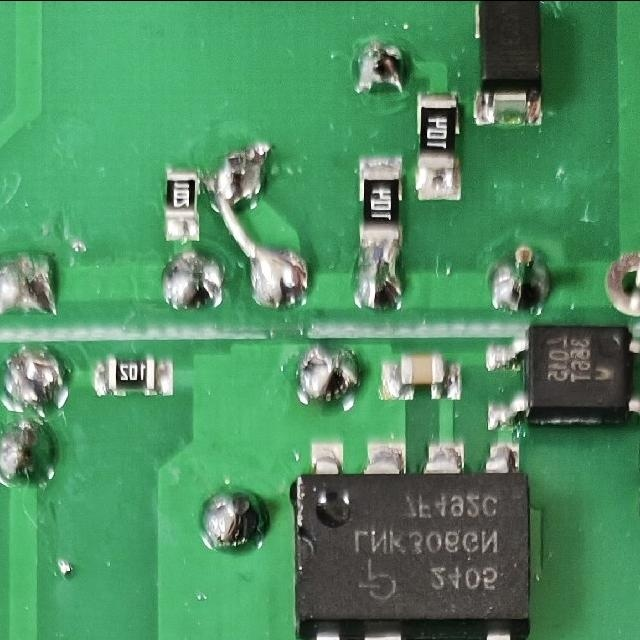chip-capacitor: (378, 351, 465, 401)
chip-resistor: (411, 86, 461, 202), (355, 153, 404, 251), (90, 351, 175, 397), (161, 162, 203, 245)
diode: (469, 0, 547, 128)
ic: (284, 438, 536, 640), (482, 322, 640, 434)
